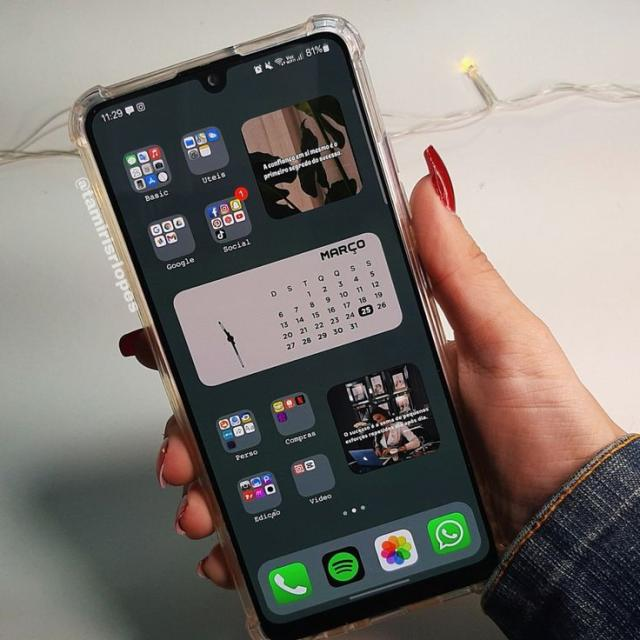phone: (58, 2, 512, 640)
